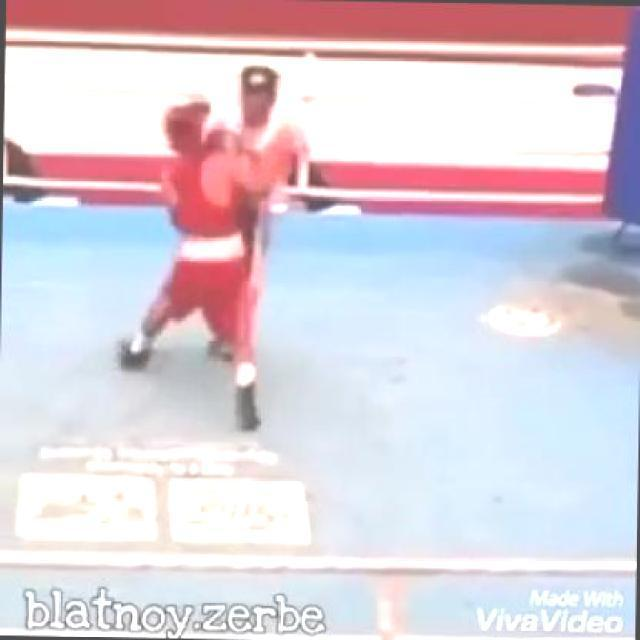fight: (146, 56, 302, 429)
